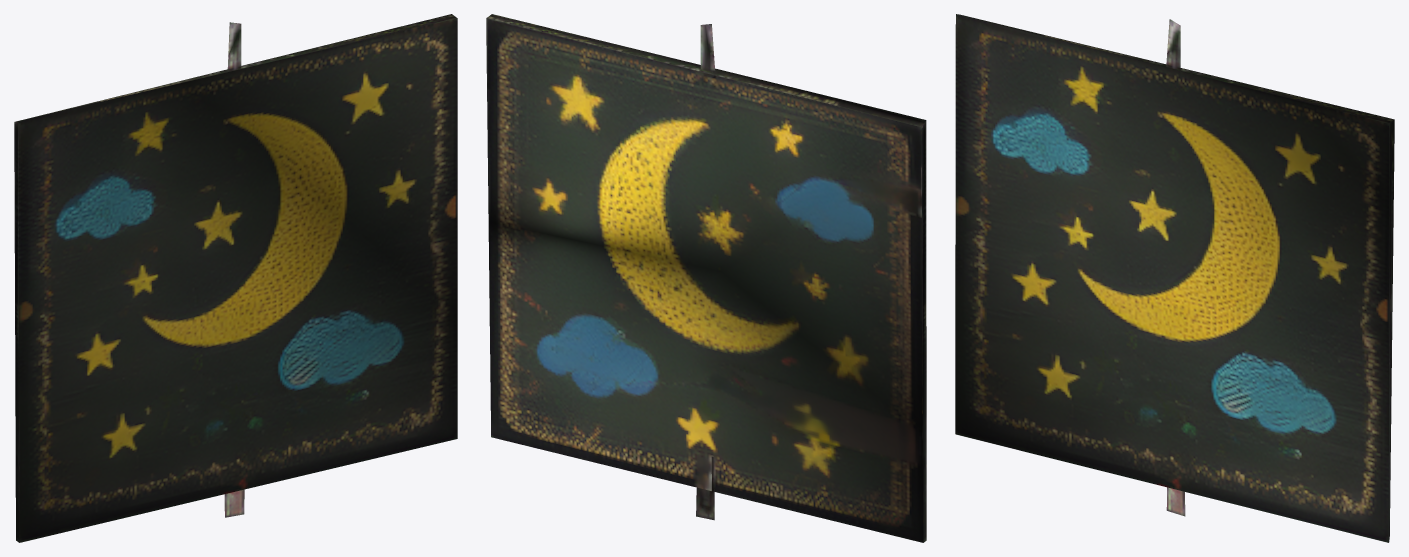
The model's file is all  kids_paintings7.fbx.
3 views of the same model, side by side, from view 1: azimuth 30°, elevation 25°; view 2: azimuth 150°, elevation 25°; view 3: azimuth 330°, elevation 25° (orthographic).
Parts seen in each view (by area): view 1: all kids_paintings7; view 2: all kids_paintings7; view 3: all kids_paintings7.
Boxes of the visible parts, x1=… form: all kids_paintings7: x1=14, y1=14, x2=457, y2=542; all kids_paintings7: x1=486, y1=14, x2=926, y2=542; all kids_paintings7: x1=955, y1=14, x2=1394, y2=542.
Bounding box in the file's own units: 134 × 145 × 3.56.
1 material, 1 textured.
